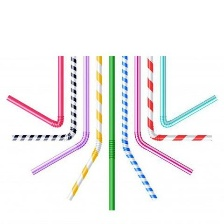drinking_straw: (2, 52, 67, 130), (156, 53, 218, 130), (104, 53, 117, 213)
